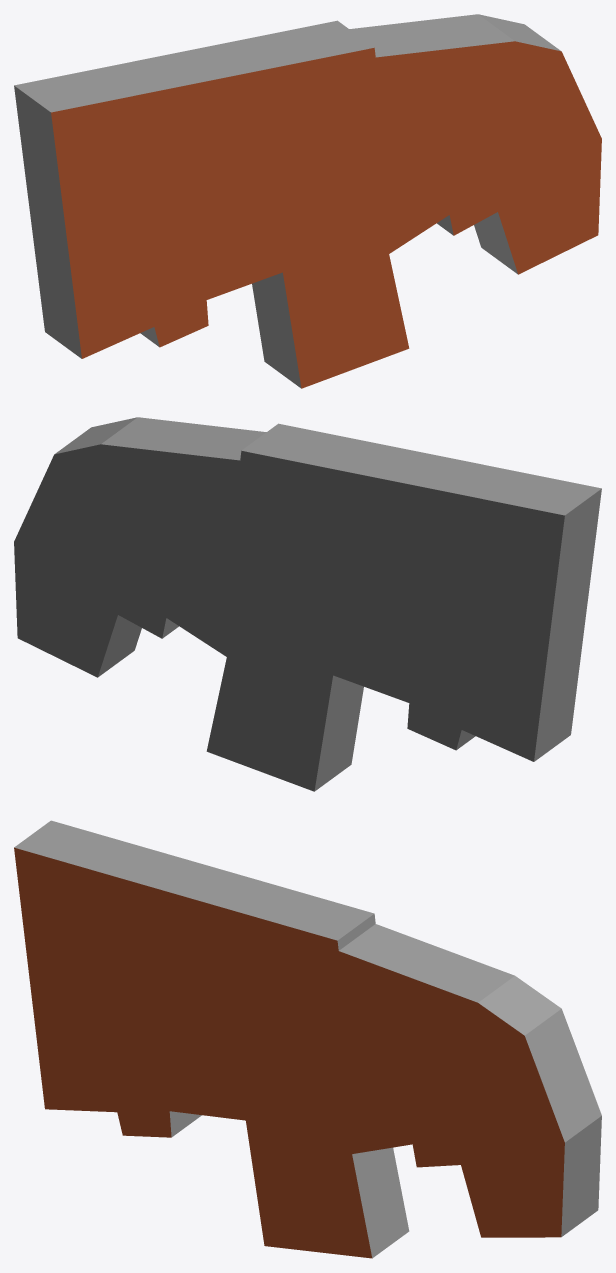
The model's file is construction_2014_assumed_A_Casa_h6m.obj.
3 renders of one model, top to bottom at view 1: azimuth 30°, elevation 25°; view 2: azimuth 150°, elevation 25°; view 3: azimuth 330°, elevation 25°, orthographic.
Parts seen in each view (by area): view 1: construction_2014_assumed_A_Casa; view 2: construction_2014_assumed_A_Casa; view 3: construction_2014_assumed_A_Casa.
Part boxes in pixels (box(x1,y1,x2,y2)): construction_2014_assumed_A_Casa: box(14, 14, 601, 388); construction_2014_assumed_A_Casa: box(14, 417, 601, 791); construction_2014_assumed_A_Casa: box(14, 820, 601, 1258).
Size of the model in its own units: 51.52 by 30.15 by 6.
